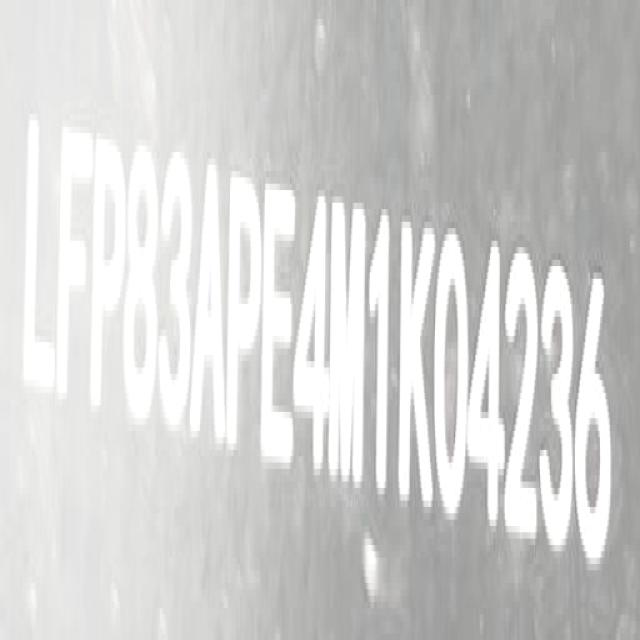0: (434, 202, 468, 514)
1: (368, 200, 392, 504)
2: (504, 237, 540, 547)
3: (159, 145, 192, 446), (541, 261, 574, 549)
4: (466, 216, 506, 523), (294, 186, 330, 477)
6: (574, 268, 612, 580)
8: (124, 143, 158, 427)
A: (192, 150, 224, 451)
E: (261, 171, 295, 467)
F: (56, 118, 94, 408)
K: (398, 208, 435, 512)
L: (24, 118, 56, 402)
M: (331, 197, 366, 484)
P: (92, 127, 126, 425), (227, 167, 260, 450)
